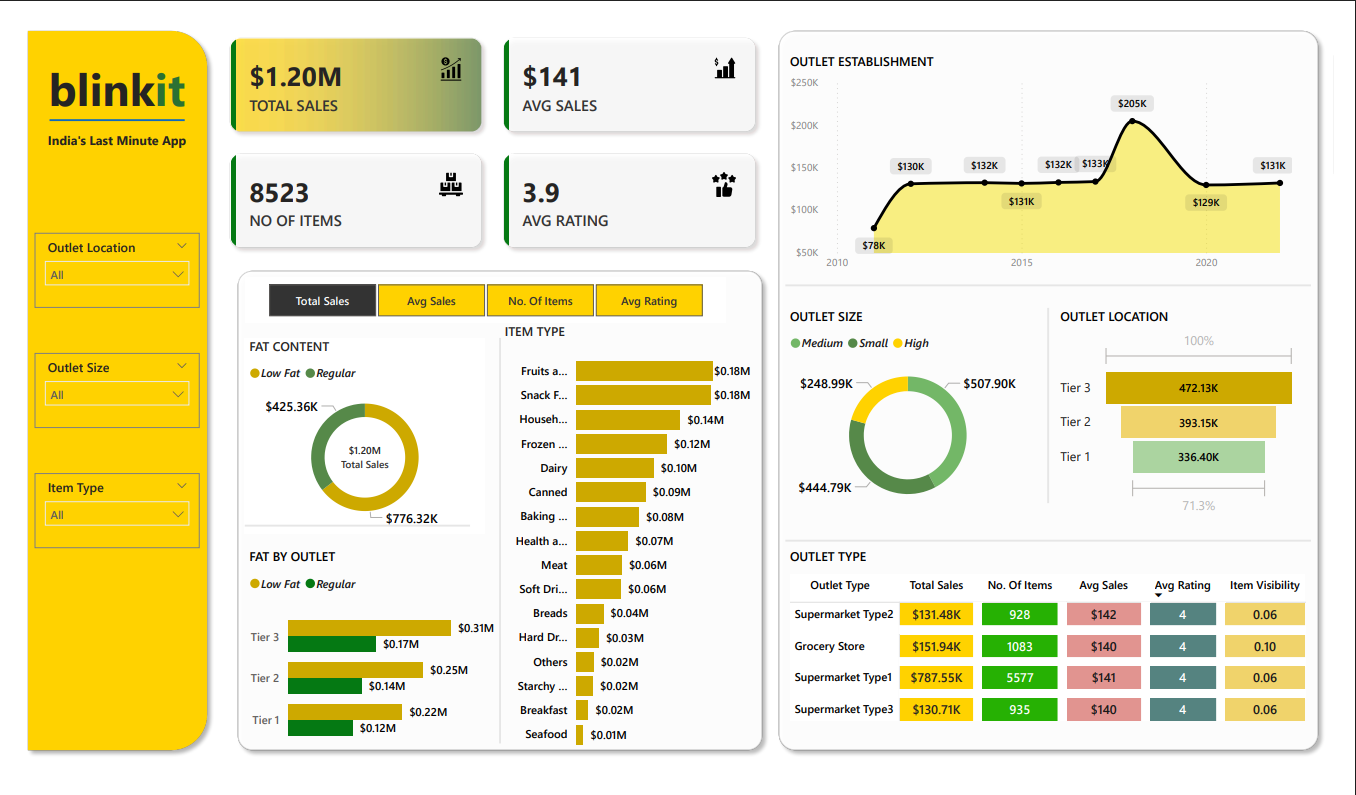

The dashboard page shown, as its layout file describes it:
{"tool":"powerbi","page":{"name":"Page 1","canvas":[1400,800],"ordinal":0},"visuals":[{"type":"shape","box":[0,0,208,784],"z":0},{"type":"textbox","box":[16,32,176,80],"z":1000},{"type":"textbox","box":[16,112,176,32],"z":2000},{"type":"cardVisual","fields":{"Data":["BlinkIT Grocery Data.Total Sales","BlinkIT Grocery Data.Avg Sales","BlinkIT Grocery Data.No. Of Items","BlinkIT Grocery Data.Avg Rating"]},"box":[208,0,592,256],"z":3000},{"type":"shape","box":[224,256,576,528],"z":4000},{"type":"donutChart","title":"FAT CONTENT","fields":{"Y":["BlinkIT Grocery Data.Total Sales"],"Category":["BlinkIT Grocery Data.Item Fat Content"]},"box":[240,336,256,208],"z":5000},{"type":"slicer","fields":{"Values":["Metrics.Metrics"]},"box":[240,272,512,48],"z":6000},{"type":"cardVisual","fields":{"Data":["BlinkIT Grocery Data.Total Sales"]},"box":[320,432,96,64],"z":7000},{"type":"clusteredBarChart","title":"FAT BY OUTLET","fields":{"Y":["BlinkIT Grocery Data.Total Sales"],"Category":["BlinkIT Grocery Data.Outlet Location Type"],"Series":["BlinkIT Grocery Data.Item Fat Content"]},"box":[240,560,272,224],"z":8000},{"type":"shape","box":[240,512,240,48],"z":9000},{"type":"shape","box":[496,336,32,432],"z":10000},{"type":"barChart","title":"ITEM TYPE","fields":{"Y":["BlinkIT Grocery Data.Total Sales"],"Category":["BlinkIT Grocery Data.Item Type"]},"box":[512,320,272,464],"z":11000},{"type":"shape","box":[800,0,592,784],"z":12000},{"type":"lineChart","title":"OUTLET ESTABLISHMENT","fields":{"Category":["BlinkIT Grocery Data.Outlet Establishment Year"],"Y":["BlinkIT Grocery Data.Total Sales"]},"box":[816,32,544,240],"z":13000},{"type":"shape","box":[816,272,560,16],"z":14000},{"type":"donutChart","title":"OUTLET SIZE","fields":{"Y":["BlinkIT Grocery Data.Total Sales"],"Category":["BlinkIT Grocery Data.Outlet Size"]},"box":[816,304,261,225],"z":15000},{"type":"shape","box":[1088,304,16,208],"z":16000},{"type":"funnel","title":"OUTLET LOCATION","fields":{"Y":["Sum(BlinkIT Grocery Data.Item Outlet Sales)"],"Category":["BlinkIT Grocery Data.Outlet Location Type"]},"box":[1104,304,261,225],"z":17000},{"type":"shape","box":[816,544,560,16],"z":18000},{"type":"pivotTable","title":"OUTLET TYPE","fields":{"Rows":["BlinkIT Grocery Data.Outlet Type"],"Values":["BlinkIT Grocery Data.Total Sales","BlinkIT Grocery Data.No. Of Items","BlinkIT Grocery Data.Avg Sales","BlinkIT Grocery Data.Avg Rating","Avg(BlinkIT Grocery Data.Item Visibility)"]},"box":[816,560,560,208],"z":19000},{"type":"slicer","fields":{"Values":["BlinkIT Grocery Data.Outlet Location Type"]},"box":[16,224,176,80],"z":20000},{"type":"slicer","fields":{"Values":["BlinkIT Grocery Data.Outlet Size"]},"box":[16,352,176,80],"z":21000},{"type":"slicer","fields":{"Values":["BlinkIT Grocery Data.Item Type"]},"box":[16,480,176,80],"z":22000},{"type":"shape","box":[32,80,144,48],"z":23000}]}

Visuals, with their boxes in screenshot pixels (x1, y1, x2, y2), scaled from the page's 1400x800 canvas onto the 1356x795 screenshot:
shape: [left=0, top=0, right=201, bottom=779]
textbox: [left=15, top=32, right=186, bottom=111]
textbox: [left=15, top=111, right=186, bottom=143]
cardVisual - BlinkIT Grocery Data.Total Sales x BlinkIT Grocery Data.Avg Sales: [left=201, top=0, right=775, bottom=254]
shape: [left=217, top=254, right=775, bottom=779]
"FAT CONTENT" donutChart: [left=232, top=334, right=480, bottom=541]
slicer - Metrics.Metrics: [left=232, top=270, right=728, bottom=318]
cardVisual - BlinkIT Grocery Data.Total Sales: [left=310, top=429, right=403, bottom=493]
"FAT BY OUTLET" clusteredBarChart: [left=232, top=556, right=496, bottom=779]
shape: [left=232, top=509, right=465, bottom=556]
shape: [left=480, top=334, right=511, bottom=763]
"ITEM TYPE" barChart: [left=496, top=318, right=759, bottom=779]
shape: [left=775, top=0, right=1348, bottom=779]
"OUTLET ESTABLISHMENT" lineChart: [left=790, top=32, right=1317, bottom=270]
shape: [left=790, top=270, right=1333, bottom=286]
"OUTLET SIZE" donutChart: [left=790, top=302, right=1043, bottom=526]
shape: [left=1054, top=302, right=1069, bottom=509]
"OUTLET LOCATION" funnel: [left=1069, top=302, right=1322, bottom=526]
shape: [left=790, top=541, right=1333, bottom=556]
"OUTLET TYPE" pivotTable: [left=790, top=556, right=1333, bottom=763]
slicer - BlinkIT Grocery Data.Outlet Location Type: [left=15, top=223, right=186, bottom=302]
slicer - BlinkIT Grocery Data.Outlet Size: [left=15, top=350, right=186, bottom=429]
slicer - BlinkIT Grocery Data.Item Type: [left=15, top=477, right=186, bottom=556]
shape: [left=31, top=80, right=170, bottom=127]
